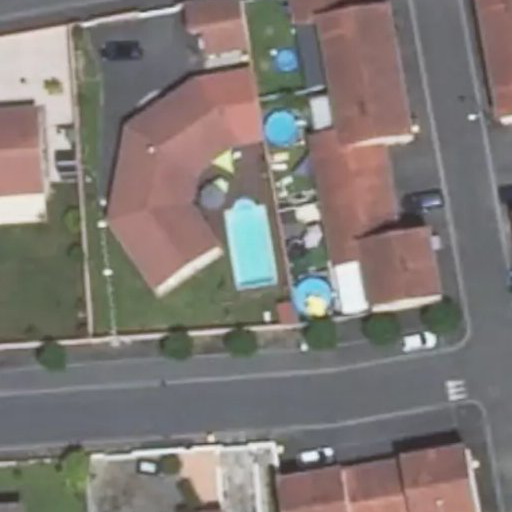pool: (232, 208, 280, 275)
